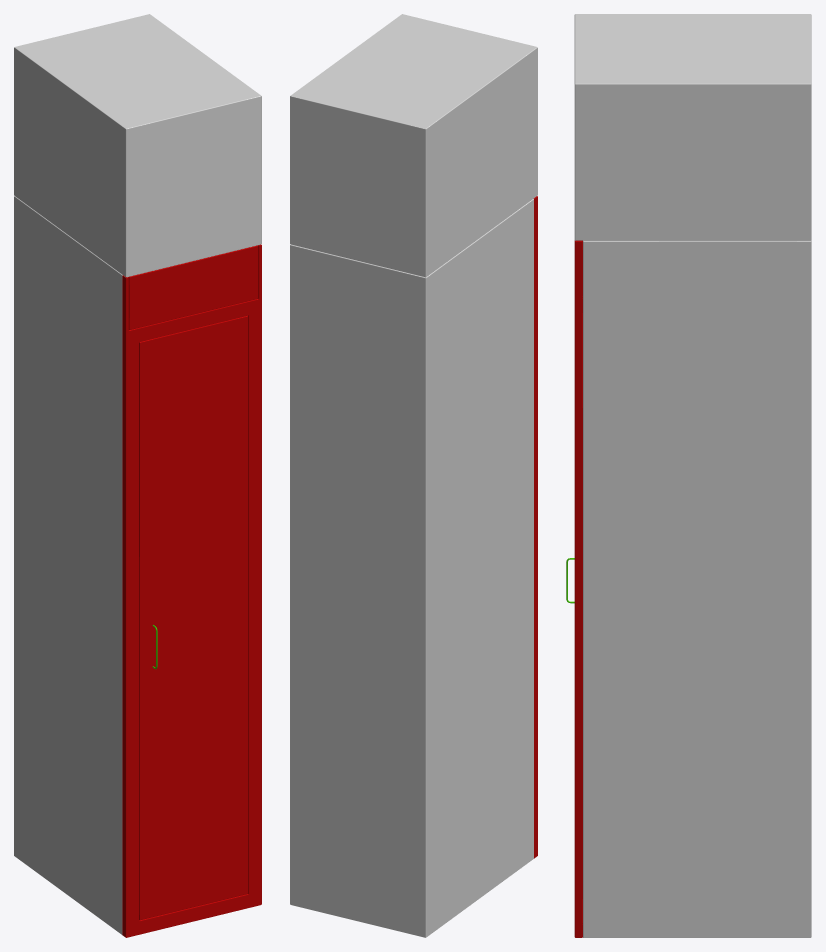
Rendered from CupboardCabinet01.fbx.
3 views of the same model, side by side, from view 1: azimuth 30°, elevation 25°; view 2: azimuth 150°, elevation 25°; view 3: azimuth 270°, elevation 25° (orthographic). The views are drawn at different scales.
Visible parts, largest first — view 1: CupboardCabinet01; view 2: CupboardCabinet01; view 3: CupboardCabinet01.
Part boxes in pixels (<box>): CupboardCabinet01: <box>14,14,261,937</box>; CupboardCabinet01: <box>290,14,537,937</box>; CupboardCabinet01: <box>566,14,811,937</box>.
Bounding box in the file's own units: 50 × 73.75 × 283.
